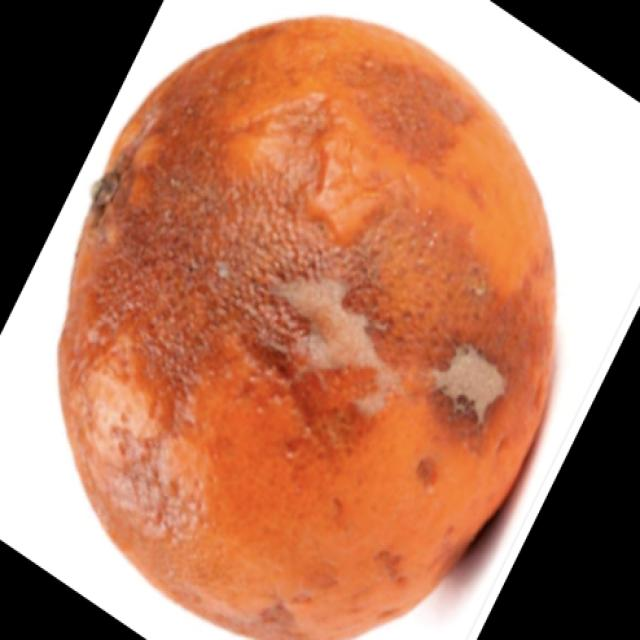sedikit_busuk: (60, 25, 550, 638)
